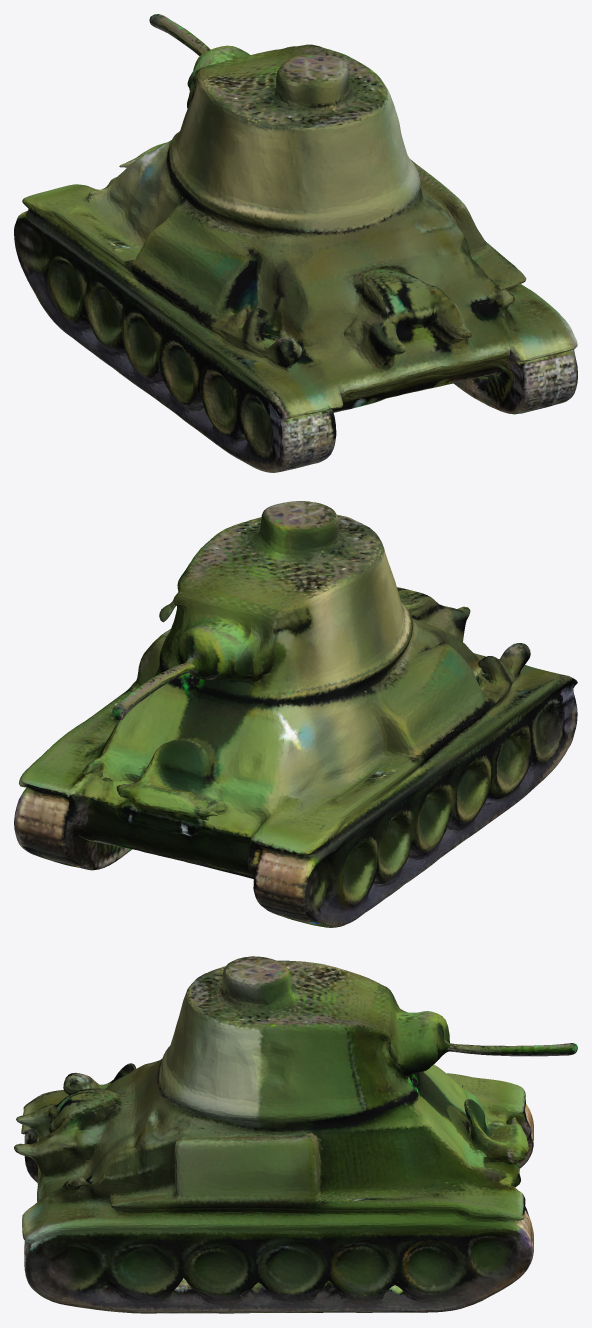
Rendered from textured_texpainter.glb.
The picture shows the model from 3 angles, top to bottom: view 1: azimuth 30°, elevation 25°; view 2: azimuth 150°, elevation 25°; view 3: azimuth 270°, elevation 25°; orthographic projection. The views are drawn at different scales.
Parts seen in each view (by area): view 1: Node-Mesh; view 2: Node-Mesh; view 3: Node-Mesh.
Part boxes in pixels (x1,y1,x2,y2): Node-Mesh: (14,14,577,472); Node-Mesh: (14,501,577,927); Node-Mesh: (14,956,577,1313).
Bounding box in the file's own units: 1.15 × 1.11 × 2.
1 material, 1 textured.
